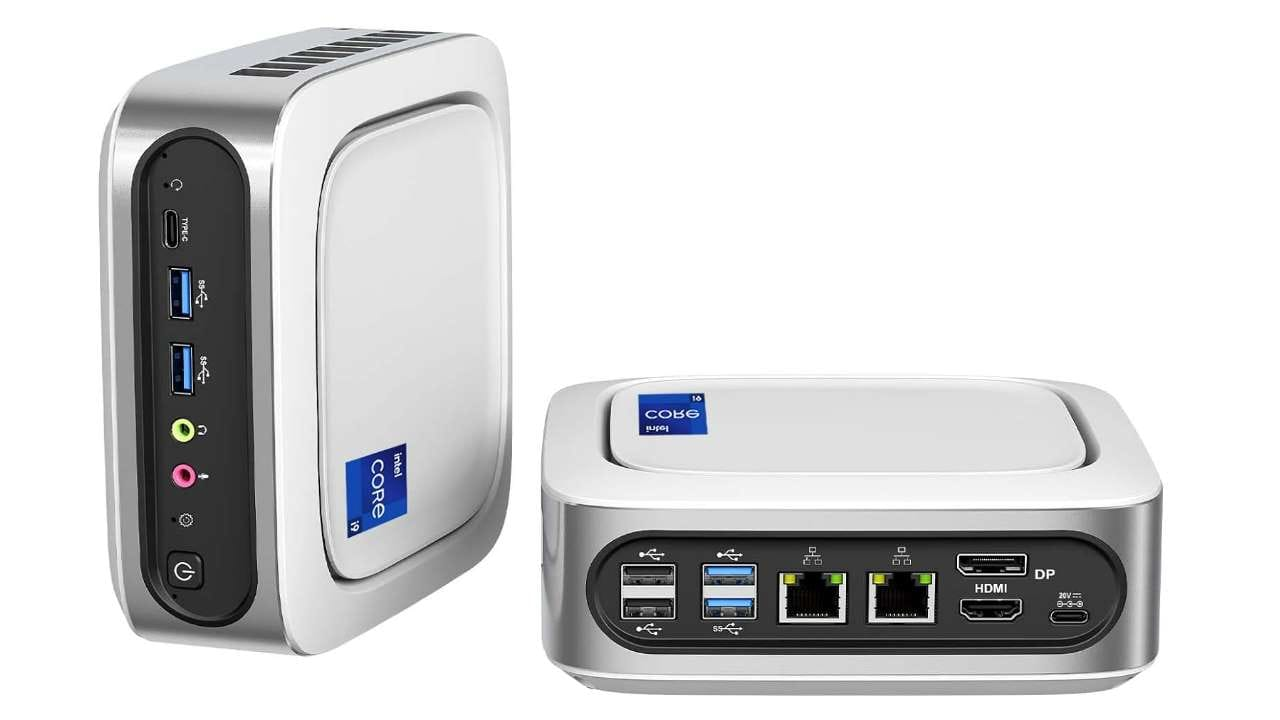Ordinateur: (775, 50, 1057, 137)
